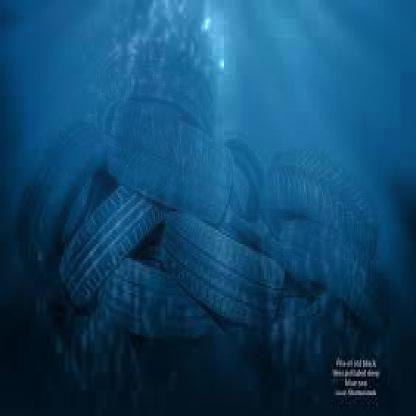tire: (161, 216, 301, 362), (118, 93, 248, 228), (49, 167, 166, 304), (265, 118, 384, 252), (97, 258, 193, 354)
